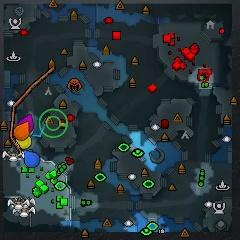p1: (24, 150, 39, 168)
p3: (18, 114, 34, 132)
p4: (15, 137, 32, 149)
p5: (14, 121, 29, 140)
